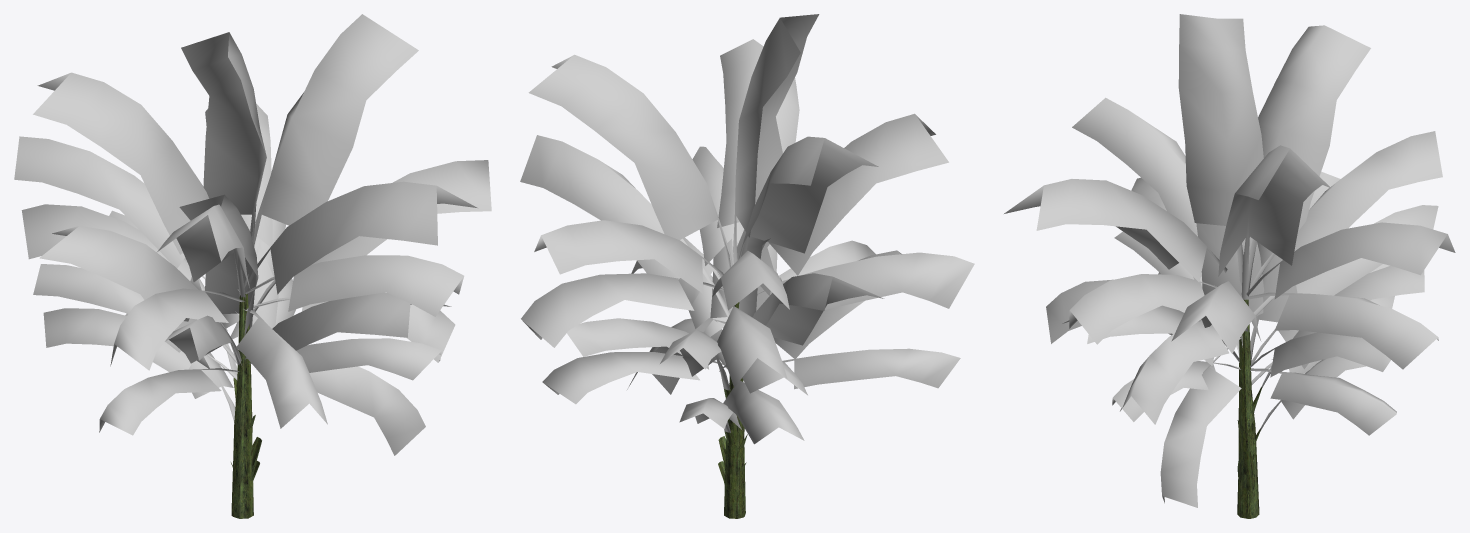
Rendered from banana tree.fbx.
3 views of the same model, side by side, from view 1: azimuth 30°, elevation 25°; view 2: azimuth 150°, elevation 25°; view 3: azimuth 270°, elevation 25° (orthographic). The views are drawn at different scales.
Parts seen in each view (by area): view 1: Bananatree, Bananatree1; view 2: Bananatree, Bananatree1; view 3: Bananatree, Bananatree1.
Part boxes in pixels (x1,y1,x2,y2): Bananatree: [14, 14, 491, 518]; Bananatree1: [33, 194, 451, 515]; Bananatree: [520, 14, 974, 518]; Bananatree1: [542, 229, 960, 518]; Bananatree: [1004, 14, 1455, 518]; Bananatree1: [1062, 171, 1396, 518].
Size of the model in its own units: 245 by 284 by 242.
